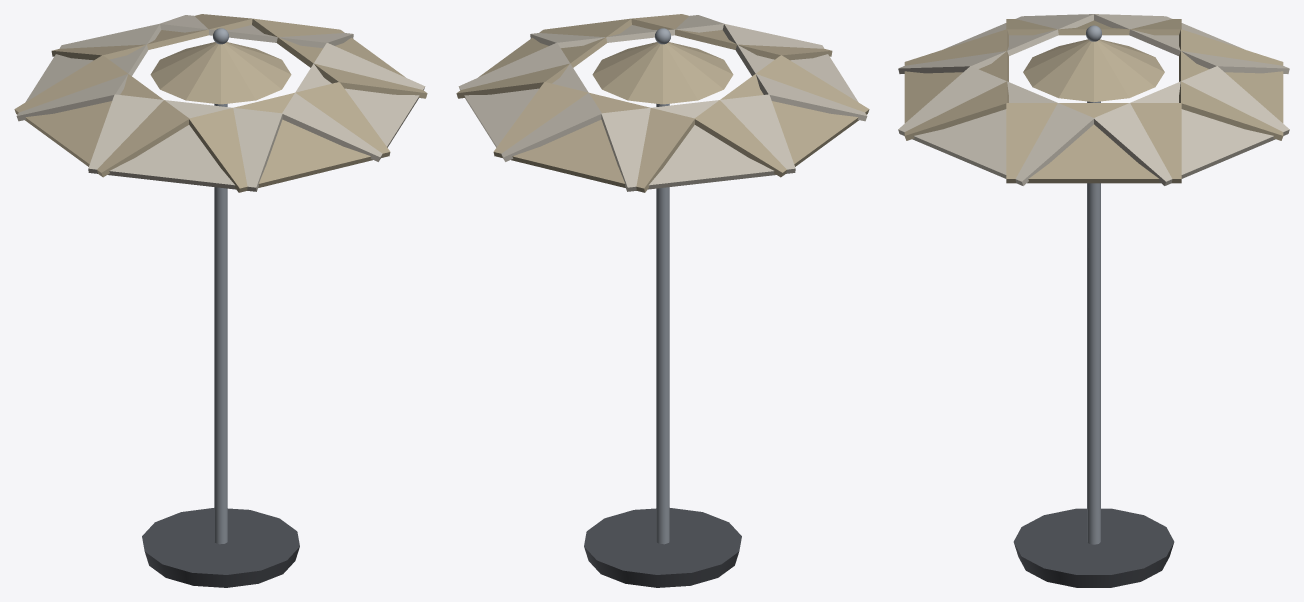
Rendered from guarda-sol.glb.
3 views of the same model, side by side, from view 1: azimuth 30°, elevation 25°; view 2: azimuth 150°, elevation 25°; view 3: azimuth 270°, elevation 25° (orthographic).
Parts seen in each view (by area): view 1: guarda-sol_malha; view 2: guarda-sol_malha; view 3: guarda-sol_malha.
Boxes of the visible parts, x1,y1,x2,y2 form: guarda-sol_malha: [14, 14, 427, 587]; guarda-sol_malha: [456, 14, 869, 587]; guarda-sol_malha: [898, 14, 1289, 587].
Bounding box in the file's own units: 1.66 × 2.48 × 1.66.
